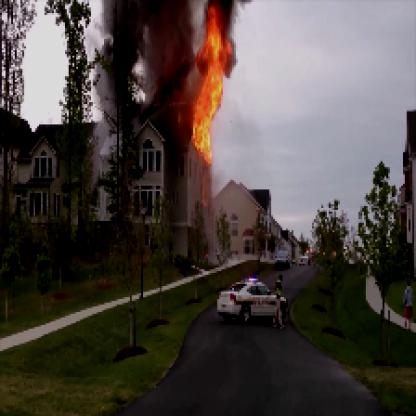Fire: (188, 5, 232, 158)
Smoke: (93, 2, 193, 121)
